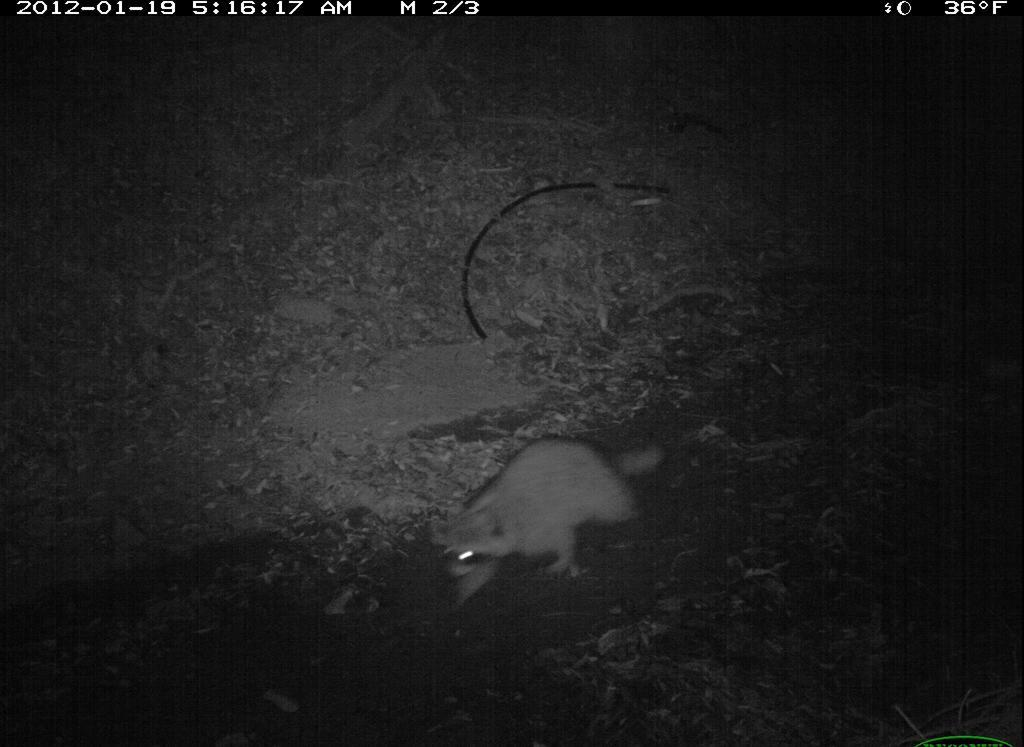raccoon: (428, 425, 678, 612)
